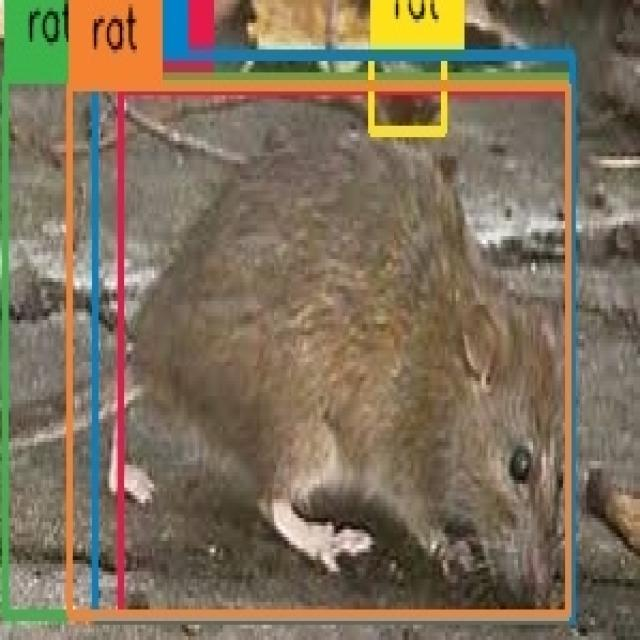rat: (6, 78, 568, 615), (96, 57, 572, 617), (70, 88, 568, 613), (120, 90, 567, 615), (370, 54, 443, 134)
